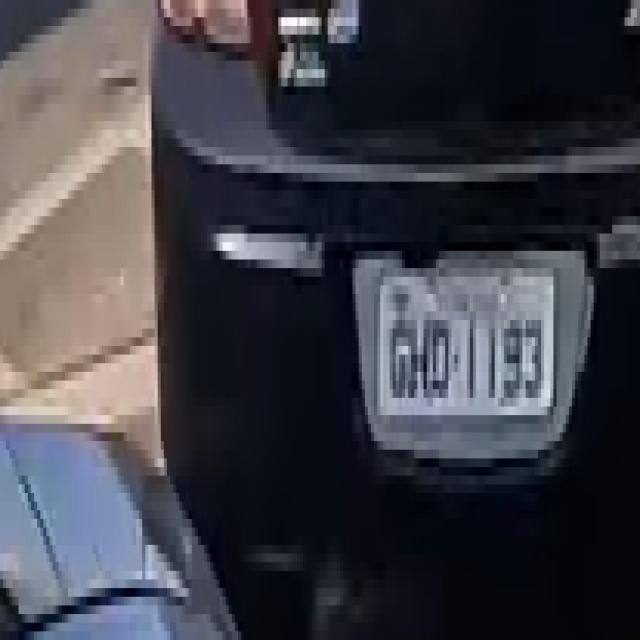Placa_mercosul_carro: (377, 258, 557, 424)
